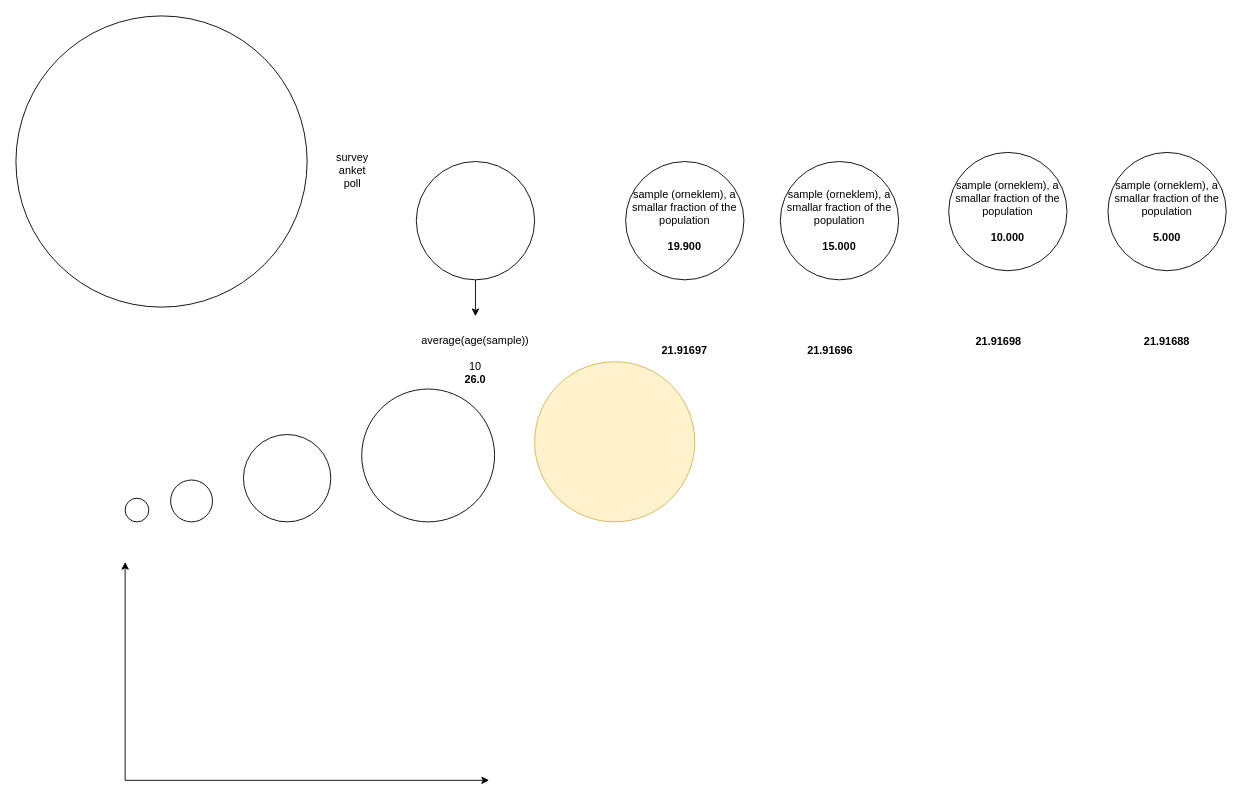
The diagram is 1256 pixels wide and 804 high, and some of its shapes have lost their labels. The centre of each missing label's shape, as x and y in pixels:
"POPULATION ALL DATA HUGE DATA TABELELER 20.000" belongs at [161,161].
"sample (orneklem), a smallar fraction of the population 10" belongs at [475,220].
